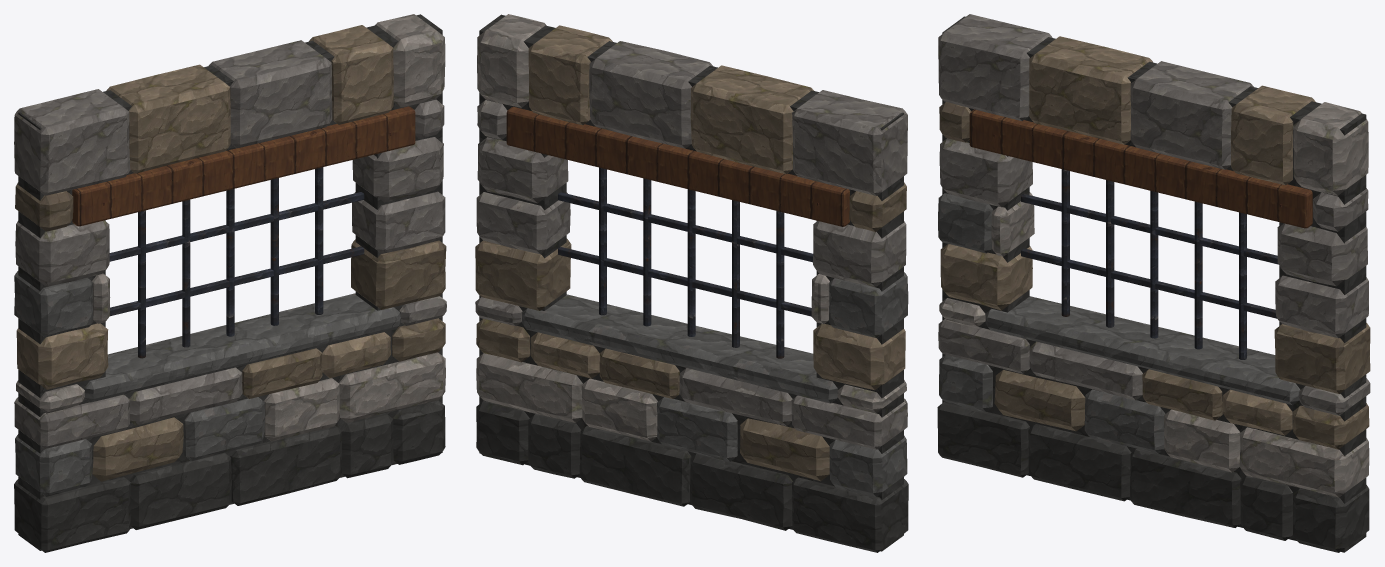
The model's file is window_wide__cut_stone.glb.
The picture shows the model from 3 angles, left to right: view 1: azimuth 30°, elevation 25°; view 2: azimuth 150°, elevation 25°; view 3: azimuth 330°, elevation 25°; orthographic projection.
Visible parts, largest first — view 1: model; view 2: model; view 3: model.
Boxes of the visible parts, left/top/right/bottom form: model: left=14, top=14, right=446, bottom=552; model: left=475, top=14, right=908, bottom=552; model: left=937, top=14, right=1370, bottom=552.
Bounding box in the file's own units: 1.99 × 1.99 × 0.2862.
10 materials, 10 textured.
